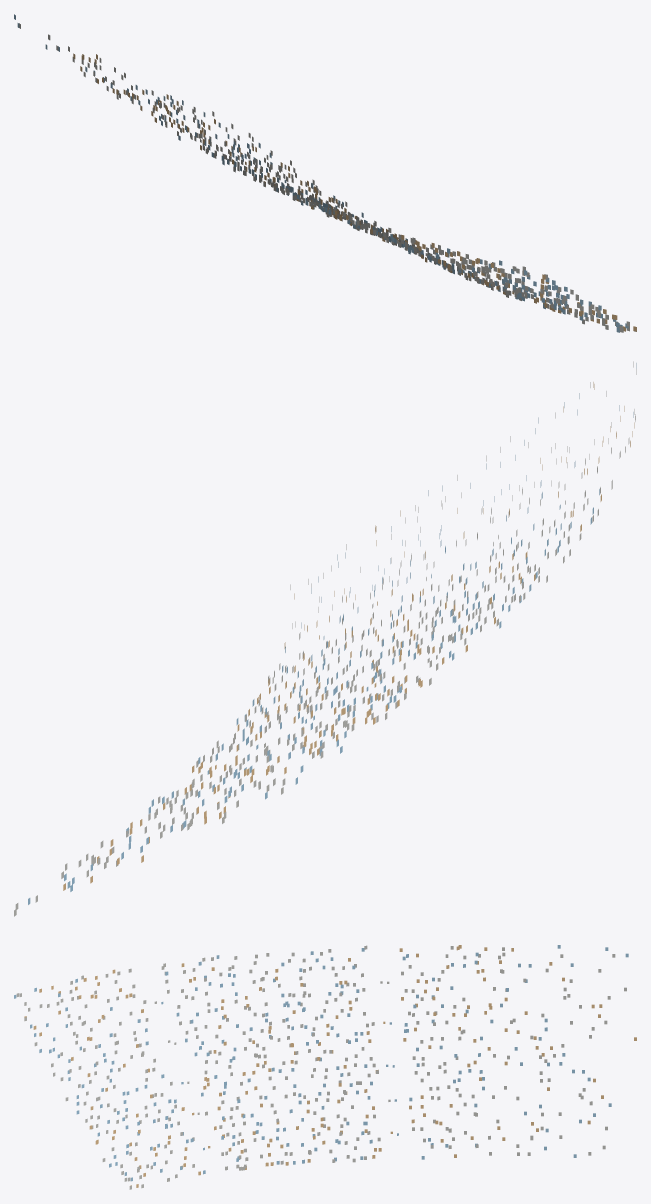
Rendered from UpperPhones5.obj.
The picture shows the model from 3 angles, top to bottom: view 1: azimuth 30°, elevation 25°; view 2: azimuth 150°, elevation 25°; view 3: azimuth 270°, elevation 25°; orthographic projection. The views are drawn at different scales.
Visible parts, largest first — view 1: UpperPhones5; view 2: UpperPhones5; view 3: UpperPhones5.
Boxes of the visible parts, x1,y1,x2,y2 form: UpperPhones5: (14, 14, 636, 332); UpperPhones5: (14, 361, 636, 916); UpperPhones5: (14, 945, 636, 1189).
Size of the model in its own units: 32.02 by 16.37 by 70.76.
Materials: 1 (1 with a texture image).
